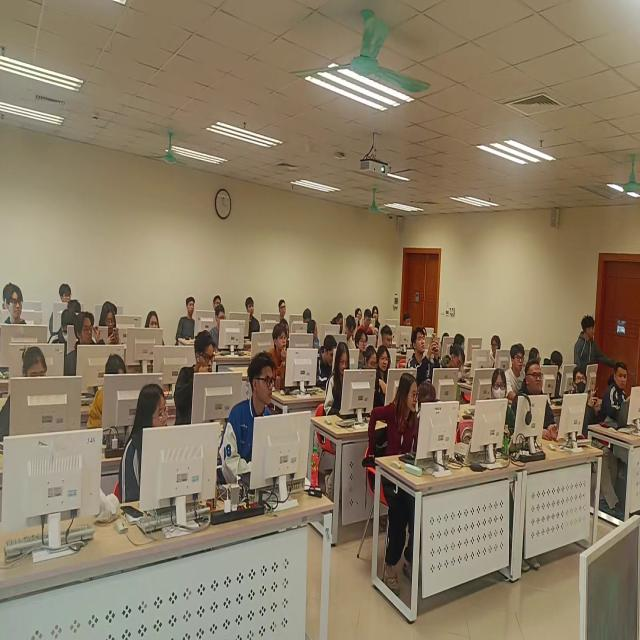raise_head: (220, 351, 277, 496), (571, 364, 620, 519), (118, 383, 168, 509), (175, 330, 217, 429), (511, 358, 560, 442), (65, 311, 97, 379), (490, 367, 517, 439), (602, 361, 630, 422), (269, 324, 291, 393), (506, 343, 526, 397), (3, 286, 29, 326), (175, 295, 196, 340), (144, 310, 167, 348), (245, 293, 261, 336), (357, 327, 369, 370), (59, 281, 75, 303), (373, 303, 382, 331), (279, 296, 288, 319), (403, 312, 413, 328), (356, 302, 362, 323), (215, 293, 222, 309)
stand: (574, 313, 614, 393)
using_computer: (1, 347, 48, 436), (89, 356, 128, 429), (325, 340, 352, 427), (316, 333, 337, 388), (48, 308, 76, 347), (210, 305, 228, 347), (445, 346, 467, 371), (342, 313, 356, 348), (361, 307, 376, 335), (331, 310, 346, 334), (381, 325, 395, 349), (3, 281, 13, 312), (281, 316, 292, 338), (441, 331, 450, 356), (301, 306, 313, 324)
using_phone: (407, 324, 440, 386), (101, 300, 123, 345)
